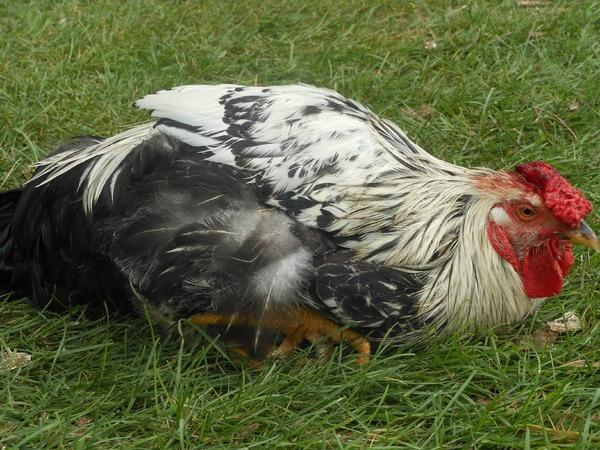AbNormal: (436, 130, 600, 324)
